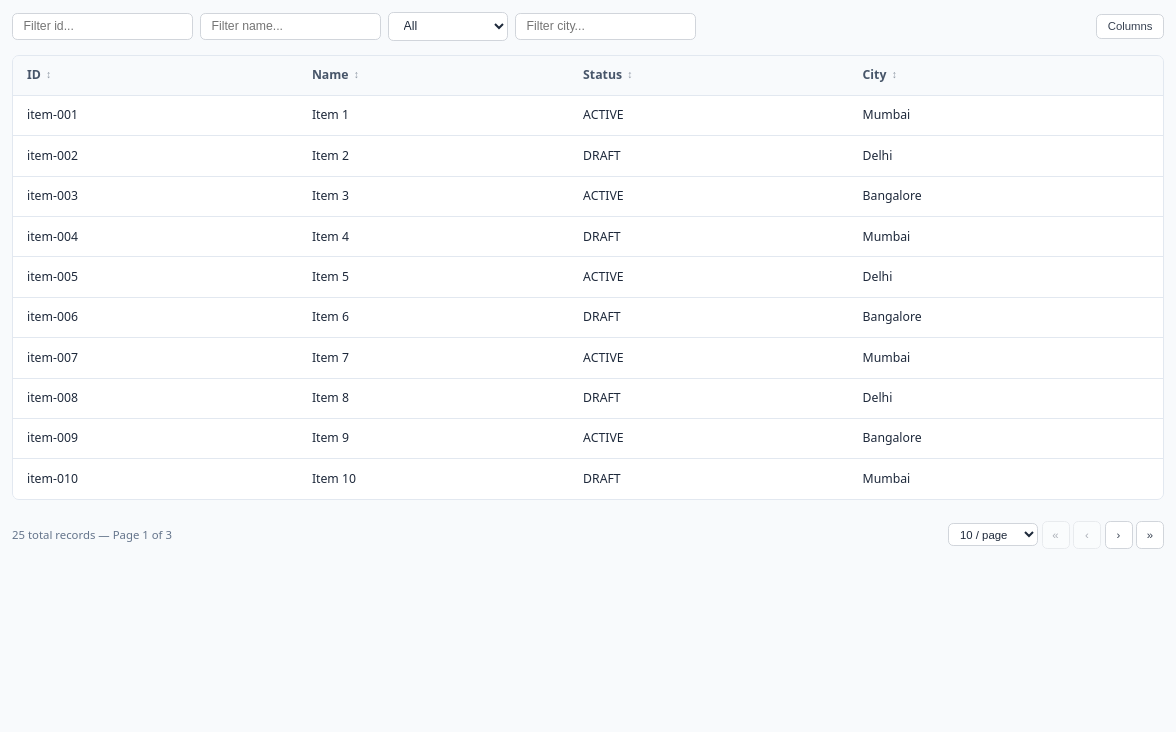
Test: DataTable › Pagination controls and page navigation › navigates to next page when Next button clicked
Check: the text "Item 1" is shown, box x1=298 y1=96 x2=569 y2=136
Click the button named "Next page" at (1118, 535), box x1=1104 y1=521 x2=1132 y2=549
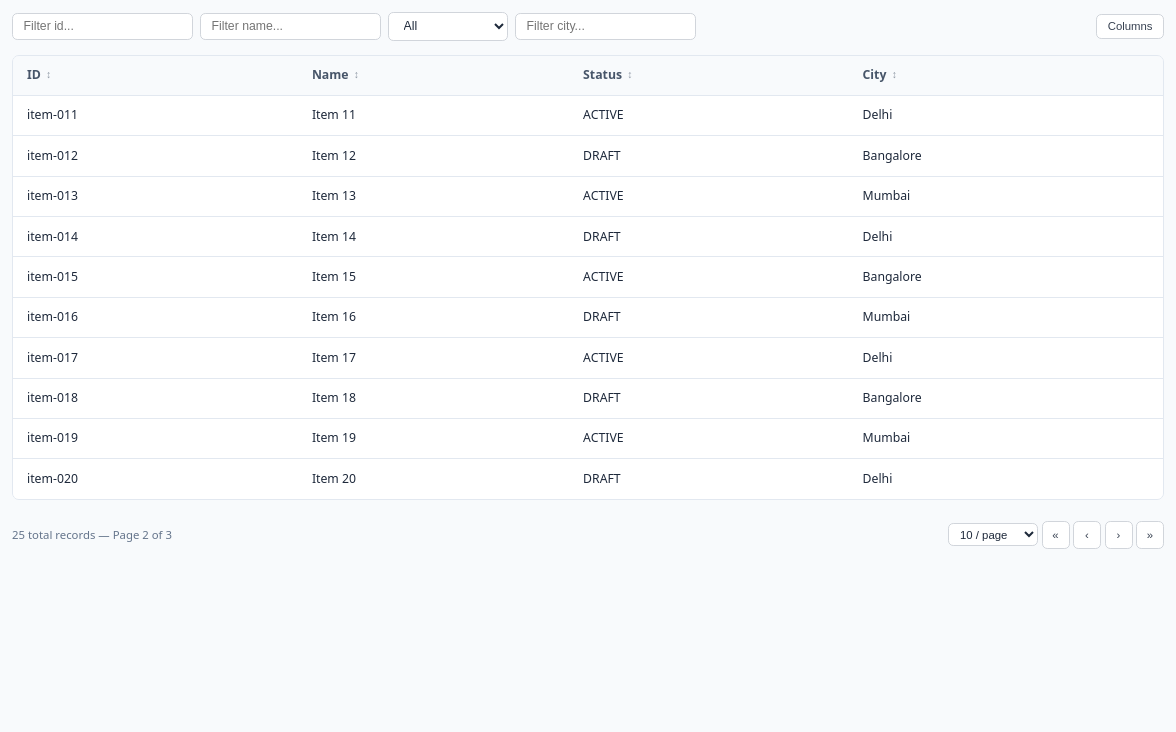
Check: the text "Item 11" is shown, box x1=298 y1=96 x2=569 y2=136
Check: the text "25 total records — Page 2 of 3" is shown, box x1=12 y1=526 x2=172 y2=543
